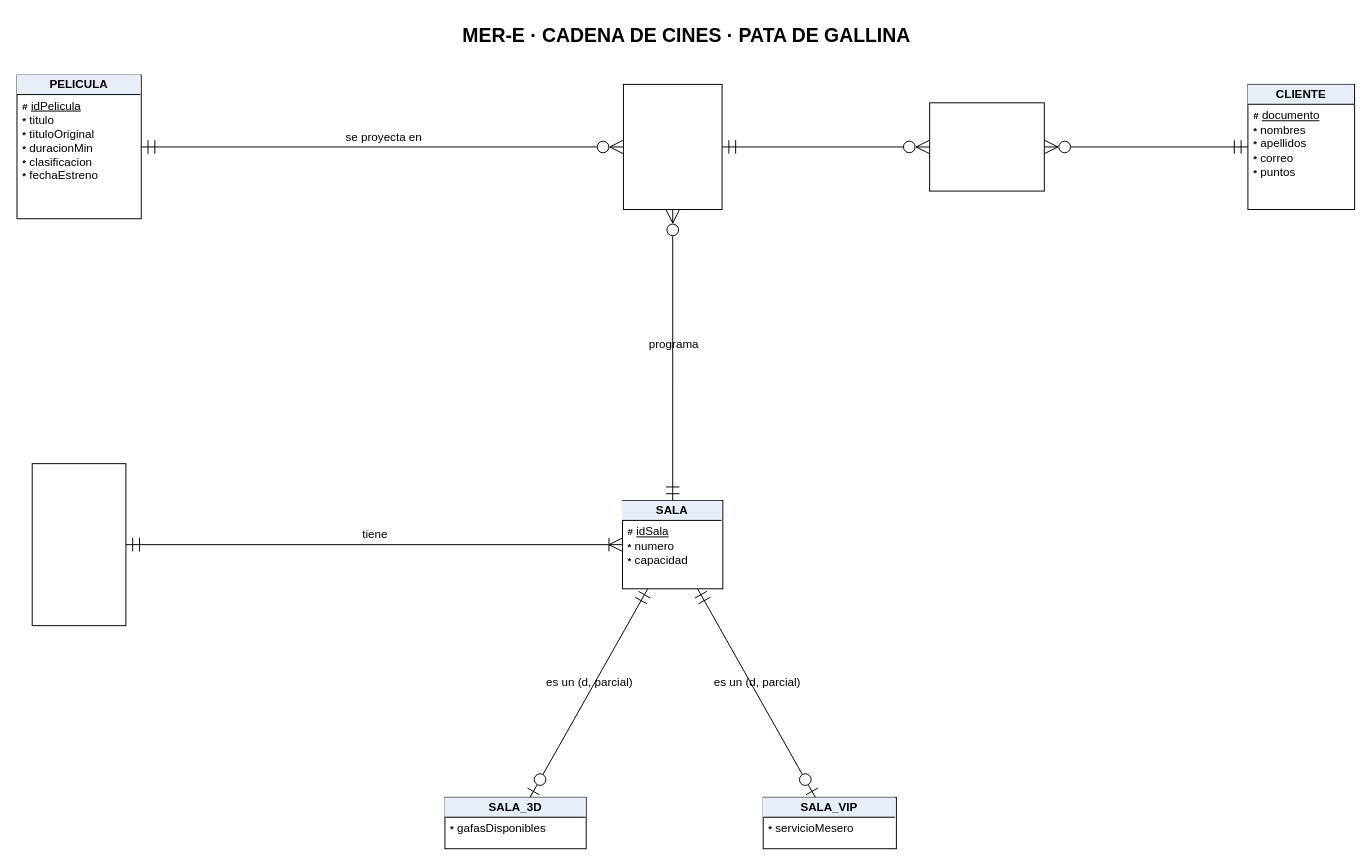
Image size: 1372x865. Some labels were removed from this diagram. The box of each missing label's shape, as (x1, y1, x2, y2) in pixels:
CINE # idCine * nombre * ciudad * calle * numero * barrio { } telefono: (31, 463, 126, 626)
COMPRAR * fila * numeroSilla * valorPagado: (929, 102, 1044, 191)
FUNCION # idFuncion * fecha * hora * precio * idioma: (622, 83, 722, 210)
